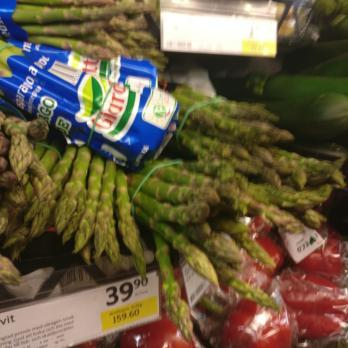Asparagus: (0, 121, 139, 271), (146, 153, 246, 282), (246, 139, 348, 232), (181, 84, 289, 166), (15, 0, 165, 59)
